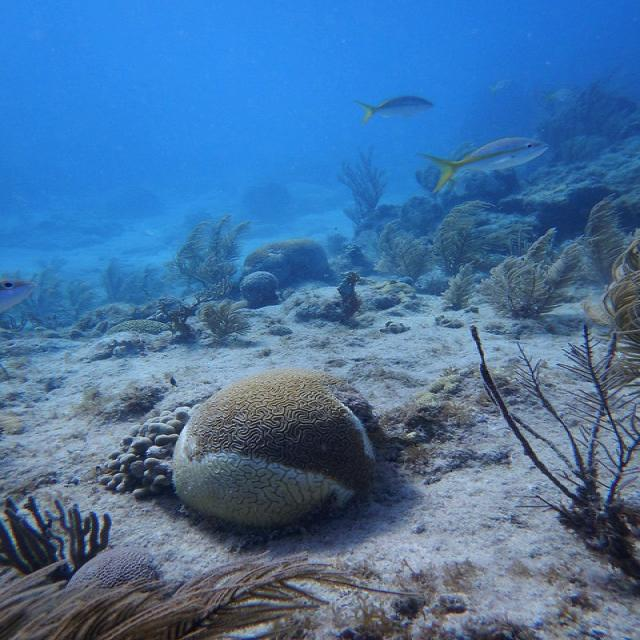Coral: (170, 368, 378, 527)
